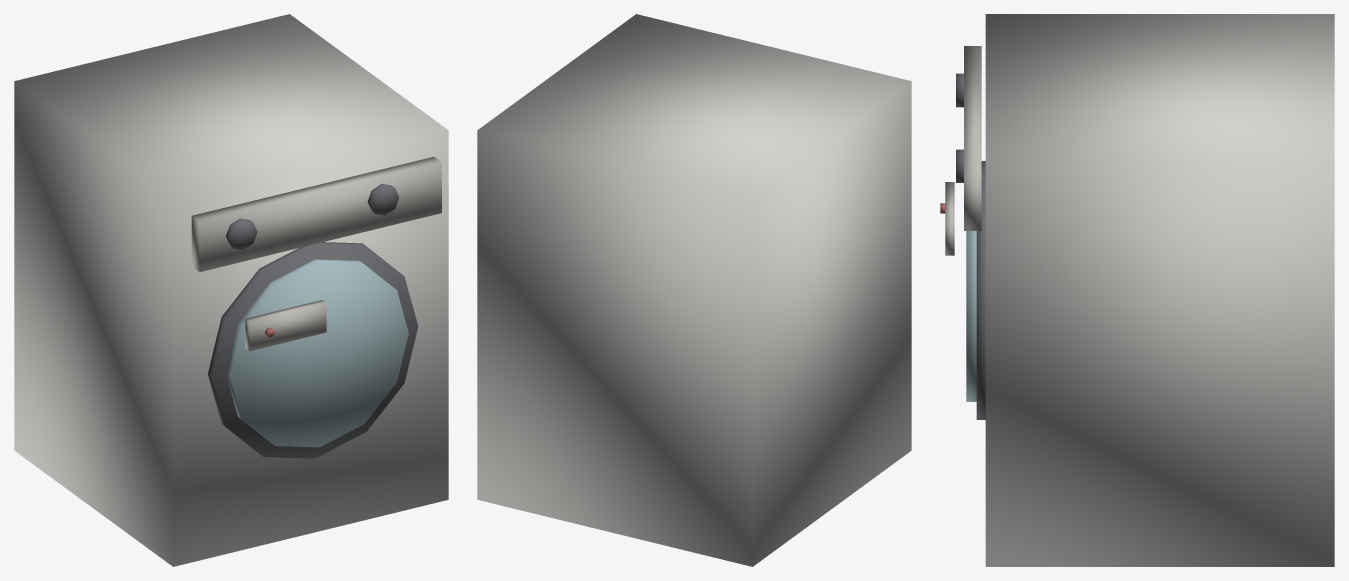
Rendered from domestic_dryer__reinforced.glb.
The picture shows the model from 3 angles, left to right: view 1: azimuth 30°, elevation 25°; view 2: azimuth 150°, elevation 25°; view 3: azimuth 270°, elevation 25°; orthographic projection. The views are drawn at different scales.
Visible parts, largest first — view 1: world; view 2: world; view 3: world.
Boxes of the visible parts, x1=… form: world: x1=14, y1=14, x2=448, y2=566; world: x1=477, y1=14, x2=911, y2=566; world: x1=940, y1=14, x2=1334, y2=566.
Bounding box in the file's own units: 0.7004 × 0.8976 × 0.7916.
